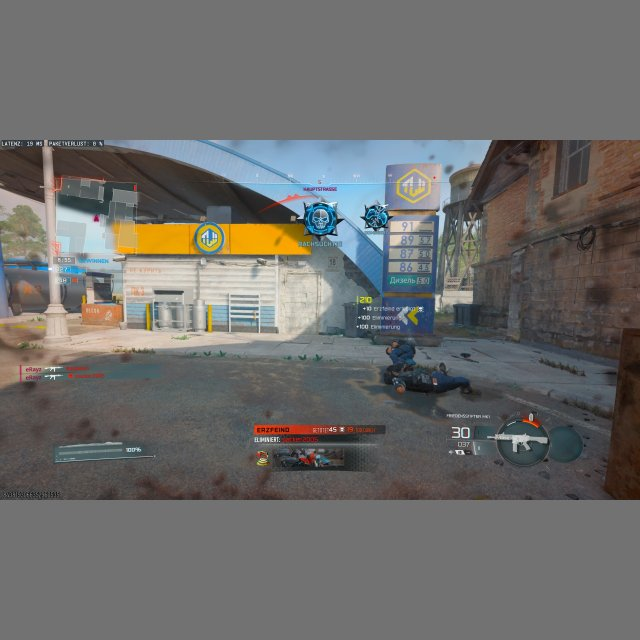head: (394, 381, 406, 395)
